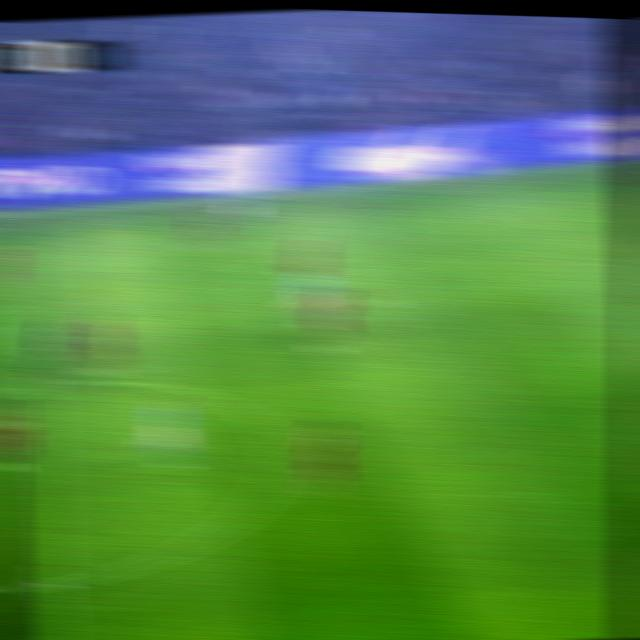halfcircle_bottom: (30, 563, 80, 602)
halfcircle_top: (20, 367, 66, 401)
midline_top_intersection: (14, 213, 52, 241)
